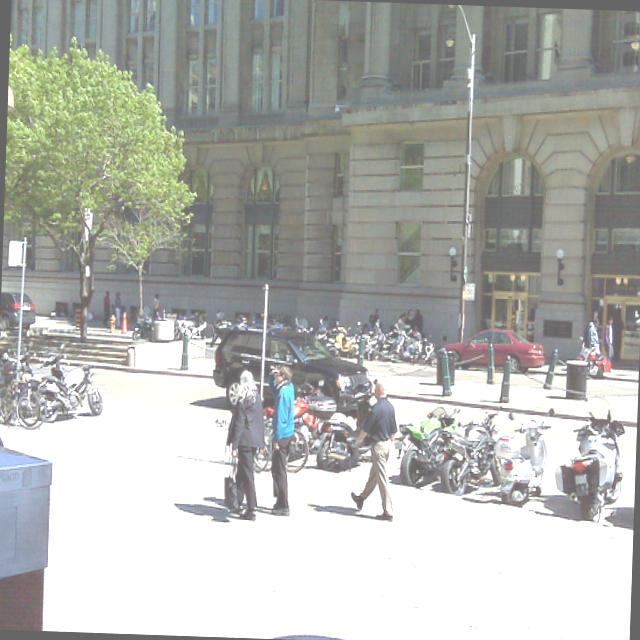Vehicle: (207, 326, 379, 424), (550, 390, 630, 529), (309, 373, 377, 474), (434, 404, 506, 497), (494, 406, 557, 508), (398, 402, 460, 488), (437, 326, 545, 374), (34, 360, 106, 424), (291, 377, 339, 452), (0, 290, 34, 330), (388, 312, 410, 362), (576, 336, 602, 364), (589, 358, 605, 378)
